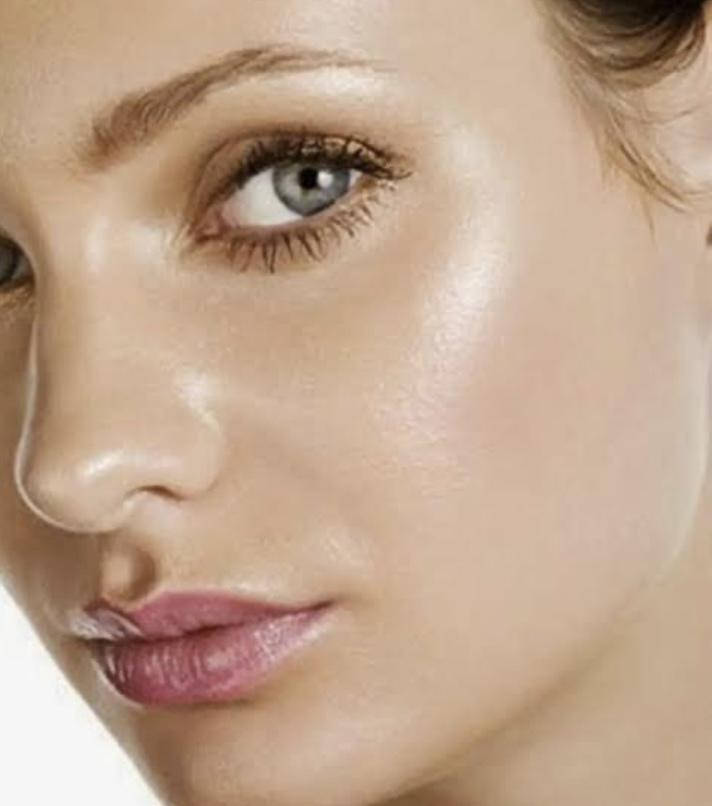Oily-Skin: (42, 252, 196, 520), (438, 246, 590, 488), (404, 32, 584, 230), (364, 542, 512, 744), (226, 368, 420, 508), (50, 20, 172, 174)
